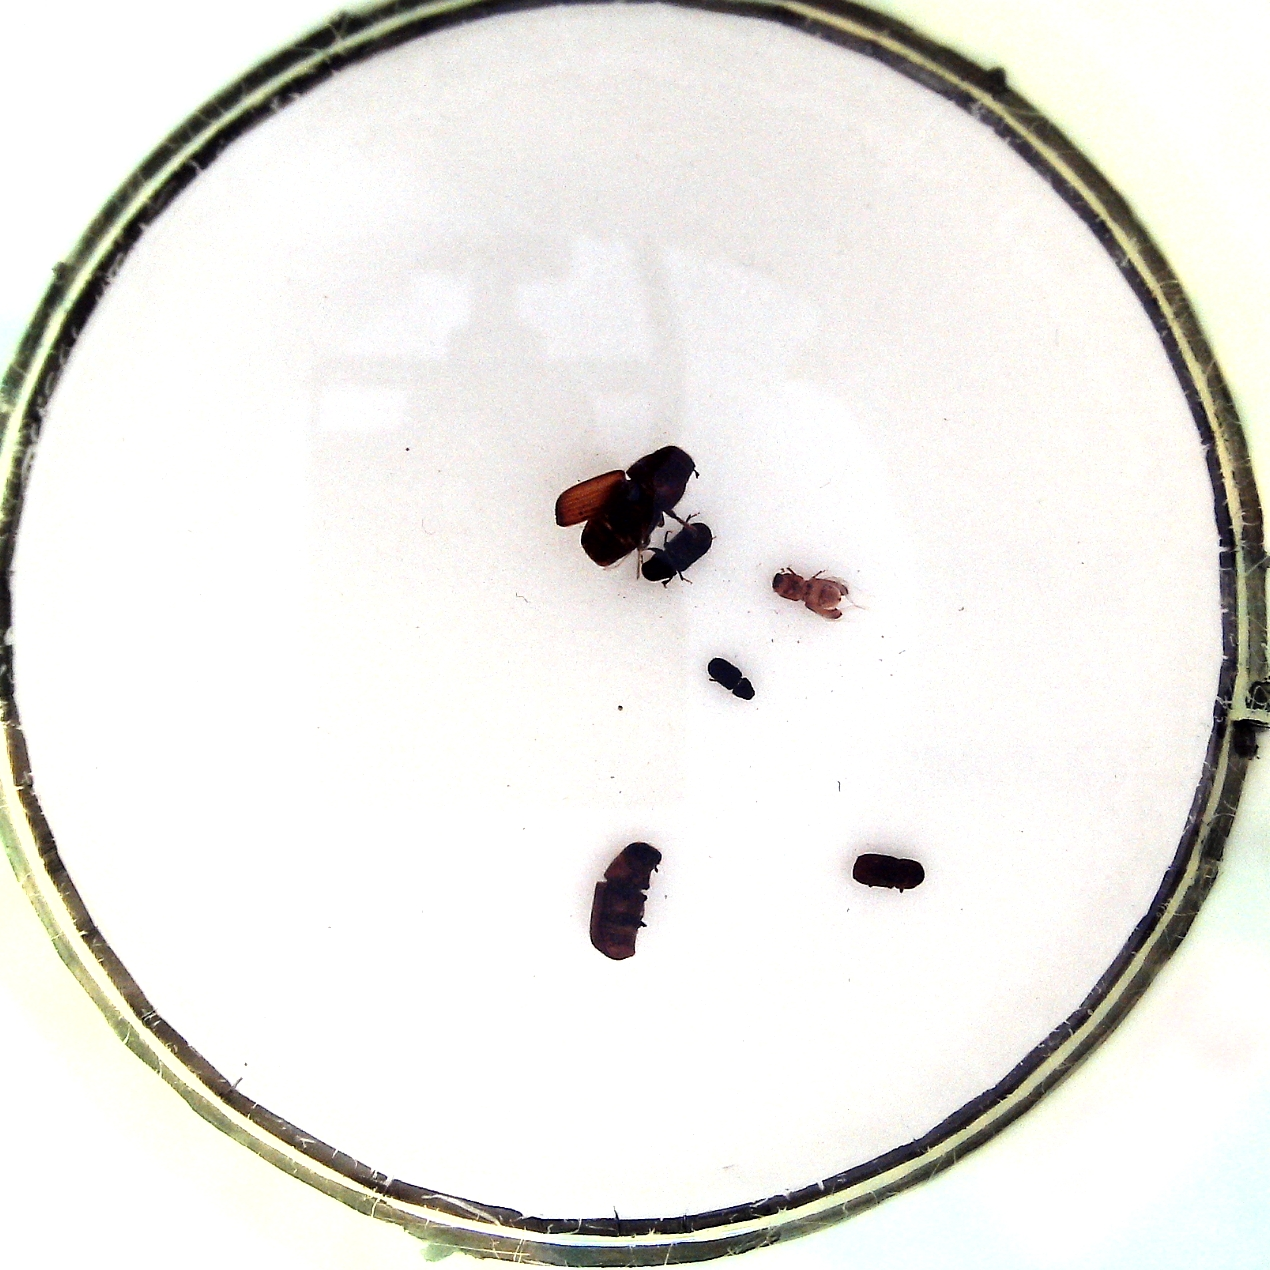Leconte: (558, 442, 684, 563), (586, 832, 663, 965)
Linnaeus: (852, 847, 928, 894)
acuminatus: (771, 565, 850, 622)
armandi: (638, 521, 712, 591)
coleoptera: (701, 655, 756, 704)
